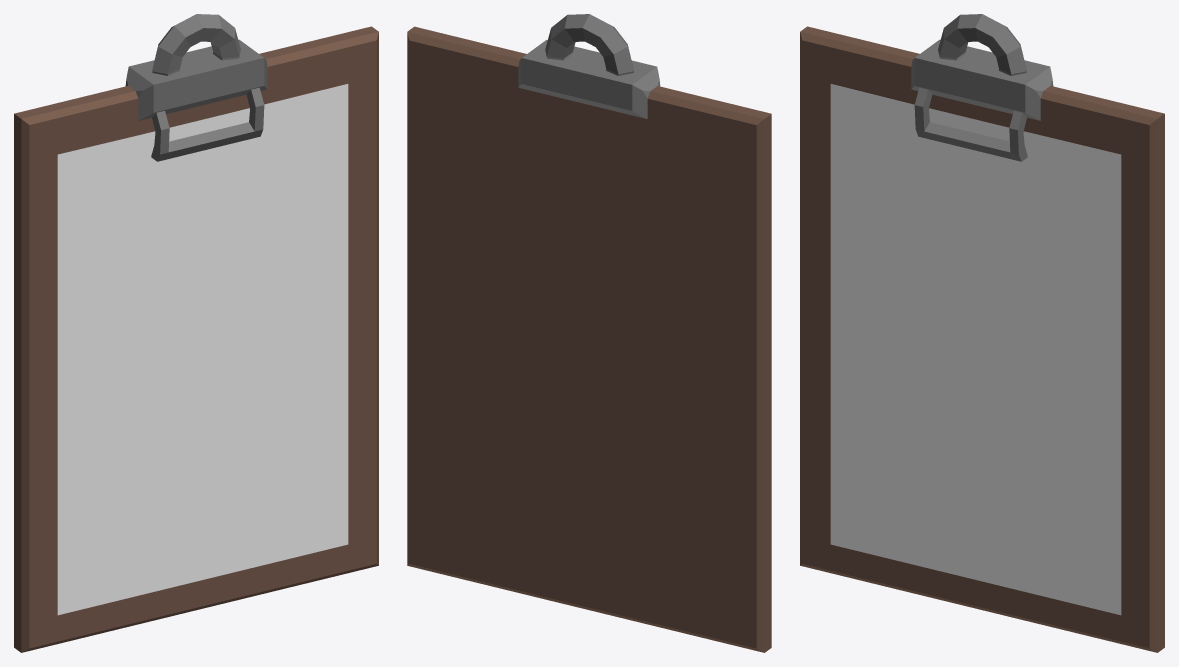
Rendered from Klemmbrett (1).fbx.
3 views of the same model, side by side, from view 1: azimuth 30°, elevation 25°; view 2: azimuth 150°, elevation 25°; view 3: azimuth 330°, elevation 25° (orthographic).
Parts seen in each view (by area): view 1: Torus; view 2: Torus; view 3: Torus.
Part boxes in pixels (x1,y1,x2,y2): Torus: (14, 14, 378, 652); Torus: (407, 14, 771, 652); Torus: (800, 14, 1164, 652).
Size of the model in its own units: 0.3213 by 0.5091 by 0.0447.
